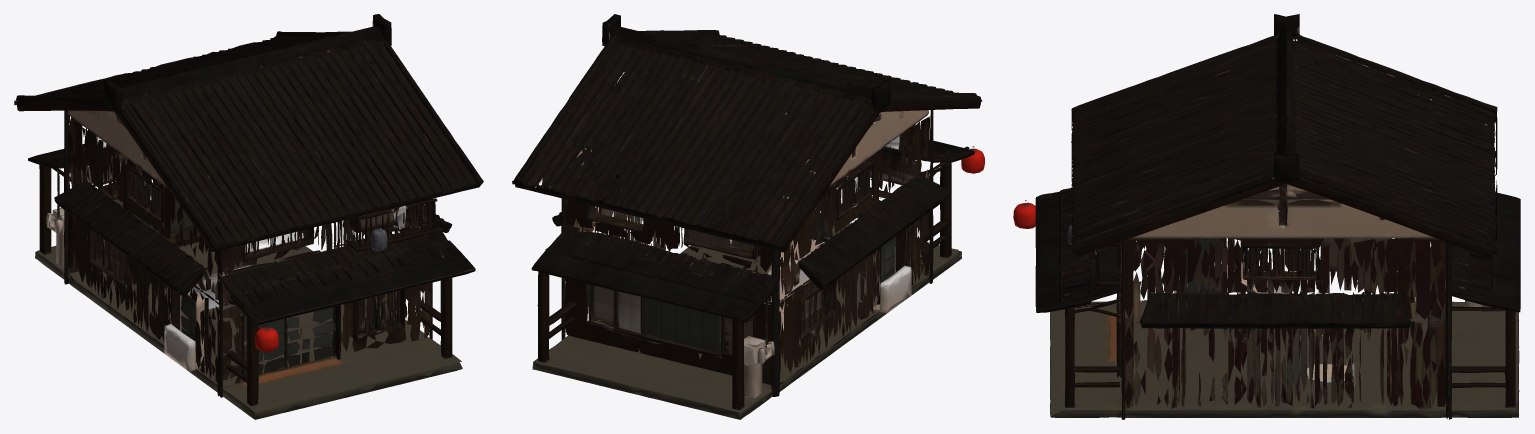
The model's file is farmhouse.glb.
The picture shows the model from 3 angles, left to right: view 1: azimuth 30°, elevation 25°; view 2: azimuth 150°, elevation 25°; view 3: azimuth 270°, elevation 25°; orthographic projection. The views are drawn at different scales.
Visible parts, largest first — view 1: farmhouse; view 2: farmhouse; view 3: farmhouse.
Boxes of the visible parts, bbox=[...] form: farmhouse: bbox=[14, 14, 483, 419]; farmhouse: bbox=[512, 14, 984, 419]; farmhouse: bbox=[1013, 14, 1520, 419].
Size of the model in its own units: 3.6 by 3.27 by 5.4.
1 material, 1 textured.
